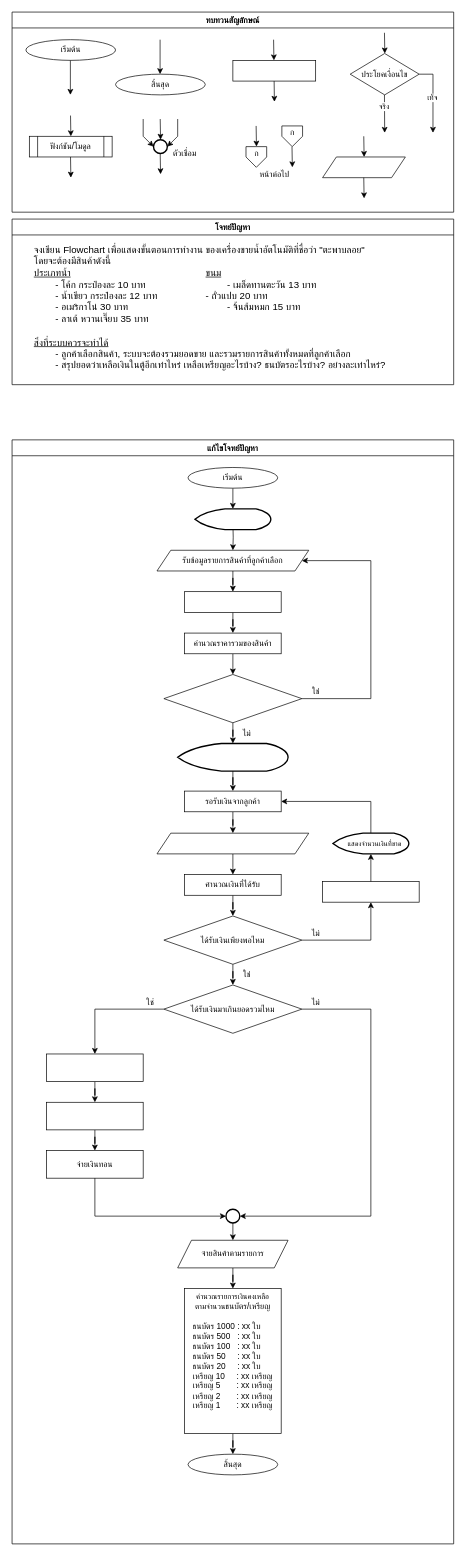
Some shapes in this 466 by 1556 pixel diagram are drawn without their labels. Here are the shapes that lost their labels. From the top down, the box of each, then its label:
(232, 60, 316, 81): กระบวนการ
(322, 156, 405, 178): แสดงผล/รับค่า
(194, 508, 271, 530): แสดงรายการสินค้า
(184, 591, 281, 612): เพิ่มสินค้าลงในตะกร้า
(163, 674, 302, 723): ต้องการเลือกสินค้าเพิ่มเติมไหม
(177, 742, 288, 771): แสดงรายการสินค้าและ ยอด รวม
(156, 832, 309, 854): รับ ธนบัตร/เหรียญ จากลูกค้า
(322, 881, 419, 902): คำนวณเงินที่ขาดไป
(46, 1053, 143, 1082): คำนวณค่าเงินทอน
(46, 1102, 143, 1130): คำนวณการจ่ายเงินทอน ธนบัตร/เหรียญ
